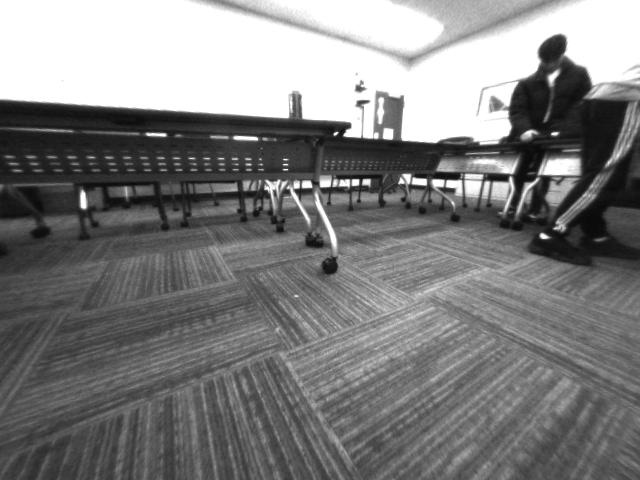can: (286, 88, 305, 120)
